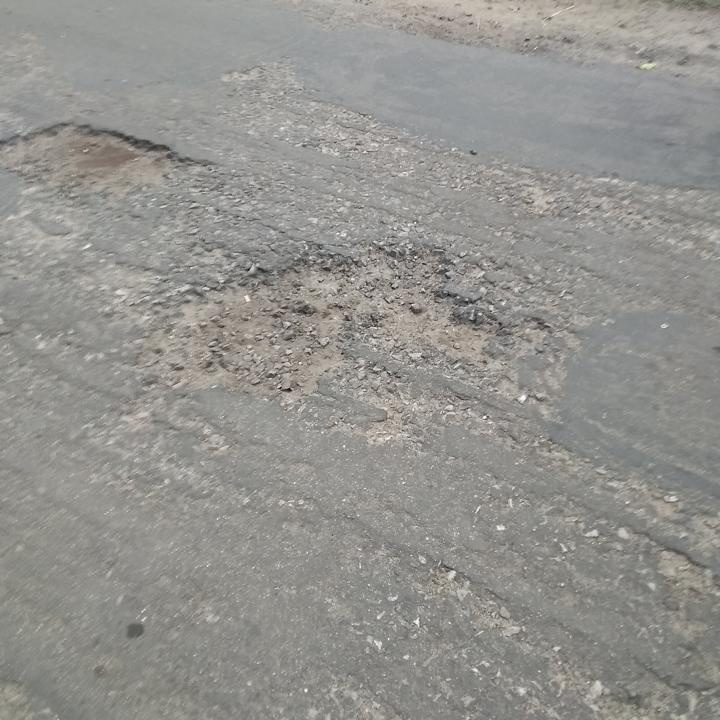pothole: (158, 231, 555, 398), (0, 116, 214, 199)
